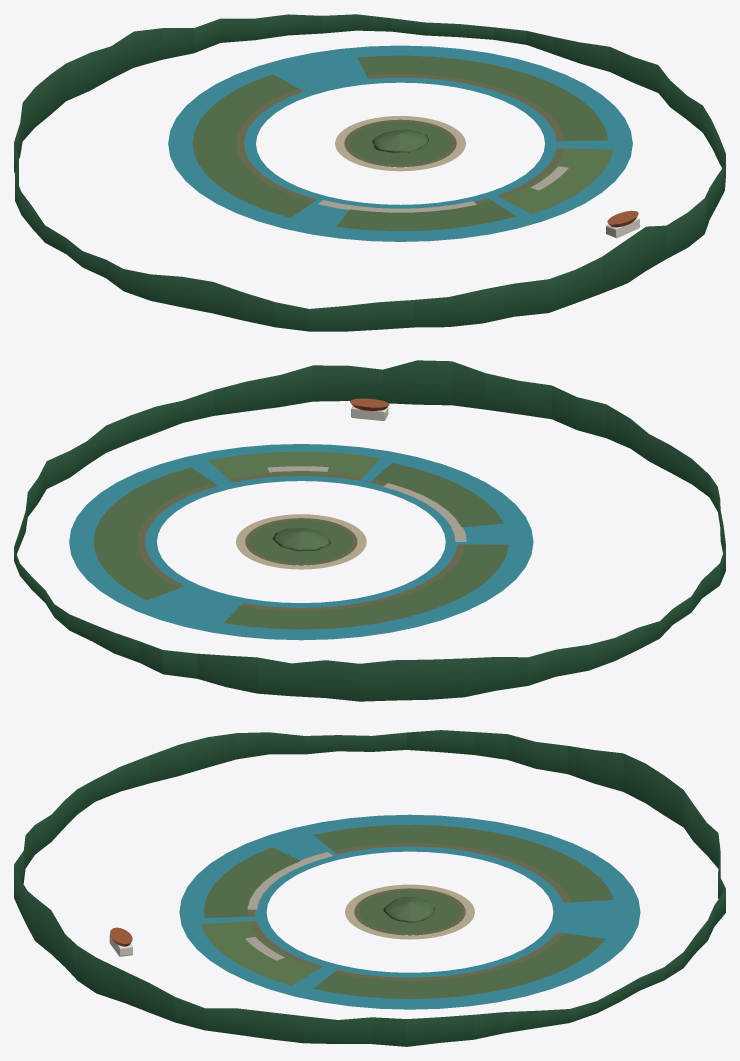
The model's file is rowplay-venue-rower-low.glb.
3 renders of one model, top to bottom at view 1: azimuth 30°, elevation 25°; view 2: azimuth 150°, elevation 25°; view 3: azimuth 270°, elevation 25°, orthographic.
Parts seen in each view (by area): view 1: environment:rower:horizon-mid, environment:rower:apron, environment:rower:grass-bank-3, environment:rower:grass-bank-2, environment:rower:grass-bank-1, environment:rower:grass-bank-4, environment:rower:island-lawn, environment:rower:island-beach, environment:rower:earth-bank-3, environment:rower:earth-bank-2, environment:rower:island-mound, environment:rower:island-core (+1 smaller); view 2: environment:rower:horizon-mid, environment:rower:apron, environment:rower:grass-bank-3, environment:rower:grass-bank-2, environment:rower:grass-bank-1, environment:rower:grass-bank-4, environment:rower:island-lawn, environment:rower:island-beach, environment:rower:earth-bank-3, environment:rower:island-mound, environment:rower:earth-bank-2, environment:rower:island-core (+2 smaller); view 3: environment:rower:horizon-mid, environment:rower:apron, environment:rower:grass-bank-3, environment:rower:grass-bank-2, environment:rower:grass-bank-1, environment:rower:grass-bank-4, environment:rower:island-lawn, environment:rower:island-beach, environment:rower:earth-bank-3, environment:rower:island-mound, environment:rower:earth-bank-2, environment:rower:island-core (+1 smaller).
Boxes of the visible parts, x1,y1,x2,y2 form: environment:rower:horizon-mid: [14, 14, 725, 331]; environment:rower:apron: [168, 45, 632, 241]; environment:rower:grass-bank-3: [192, 74, 313, 217]; environment:rower:grass-bank-2: [357, 55, 607, 140]; environment:rower:grass-bank-1: [336, 201, 516, 231]; environment:rower:grass-bank-4: [502, 148, 612, 214]; environment:rower:island-lawn: [349, 121, 451, 164]; environment:rower:island-beach: [335, 116, 465, 171]; environment:rower:earth-bank-3: [236, 89, 316, 214]; environment:rower:earth-bank-2: [362, 67, 590, 141]; environment:rower:island-mound: [372, 129, 428, 152]; environment:rower:island-core: [344, 119, 456, 167]; environment:rower:horizon-mid: [14, 360, 725, 701]; environment:rower:apron: [69, 444, 533, 640]; environment:rower:grass-bank-3: [224, 544, 508, 629]; environment:rower:grass-bank-2: [93, 467, 213, 600]; environment:rower:grass-bank-1: [373, 463, 504, 527]; environment:rower:grass-bank-4: [208, 451, 380, 479]; environment:rower:island-lawn: [250, 520, 352, 563]; environment:rower:island-beach: [236, 514, 366, 569]; environment:rower:earth-bank-3: [240, 544, 464, 610]; environment:rower:island-mound: [272, 528, 330, 551]; environment:rower:earth-bank-2: [137, 483, 217, 598]; environment:rower:island-core: [245, 518, 357, 565]; environment:rower:horizon-mid: [14, 730, 725, 1046]; environment:rower:apron: [179, 814, 640, 1009]; environment:rower:grass-bank-3: [313, 824, 613, 902]; environment:rower:grass-bank-2: [313, 933, 605, 998]; environment:rower:grass-bank-1: [204, 847, 300, 917]; environment:rower:grass-bank-4: [200, 921, 318, 985]; environment:rower:island-lawn: [359, 890, 460, 933]; environment:rower:island-beach: [345, 884, 474, 939]; environment:rower:earth-bank-3: [317, 838, 604, 902]; environment:rower:island-mound: [383, 897, 435, 922]; environment:rower:earth-bank-2: [334, 932, 563, 980]; environment:rower:island-core: [354, 888, 465, 935].
Bounding box in the file's own units: 168 × 11.6 × 170.
